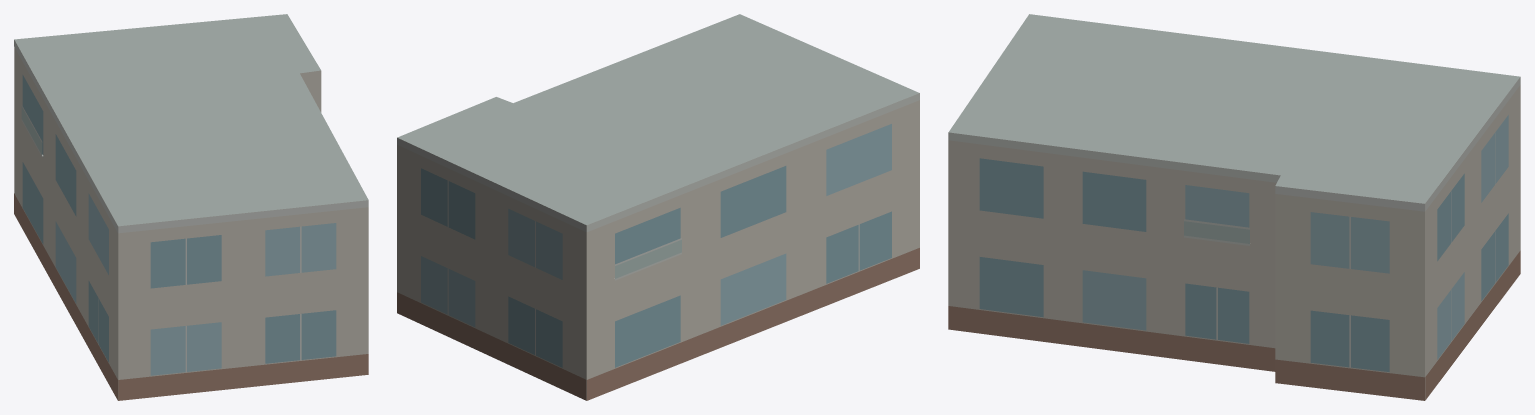
The model's file is survey-upis-32980403.glb.
3 views of the same model, side by side, from view 1: azimuth 30°, elevation 25°; view 2: azimuth 150°, elevation 25°; view 3: azimuth 270°, elevation 25° (orthographic). The views are drawn at different scales.
Parts seen in each view (by area): view 1: survey-upis-32980403.tmp; view 2: survey-upis-32980403.tmp; view 3: survey-upis-32980403.tmp.
Boxes of the visible parts, box(x1,y1,x2,y2) form: survey-upis-32980403.tmp: box(14, 14, 368, 400); survey-upis-32980403.tmp: box(397, 14, 919, 400); survey-upis-32980403.tmp: box(948, 14, 1520, 400).
Bounding box in the file's own units: 12.61 × 6.1 × 16.06.
